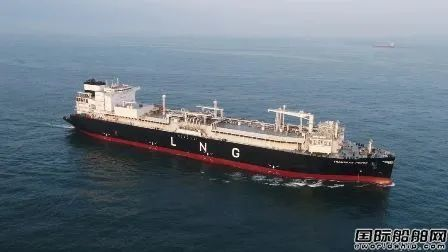Cargoship: (61, 75, 398, 188)
